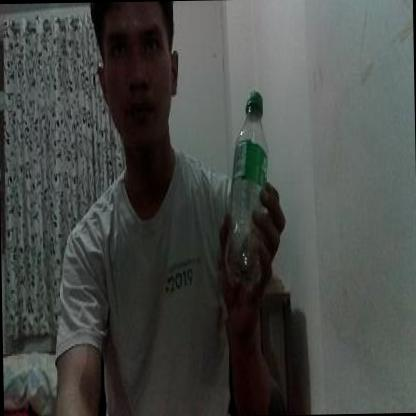plastic_bottles: (224, 93, 271, 288)
